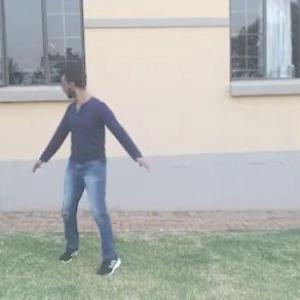land: (26, 55, 148, 266)
